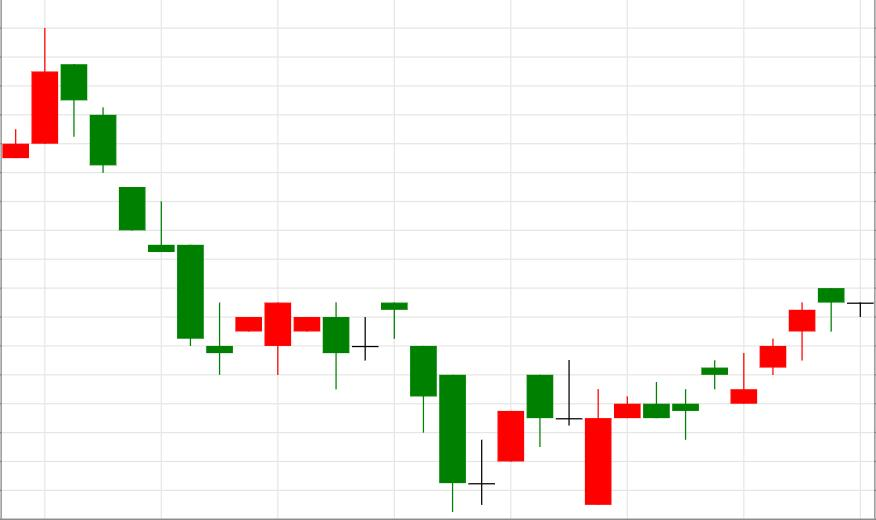morning_star_rise: (61, 64, 262, 374), (382, 303, 524, 511)
